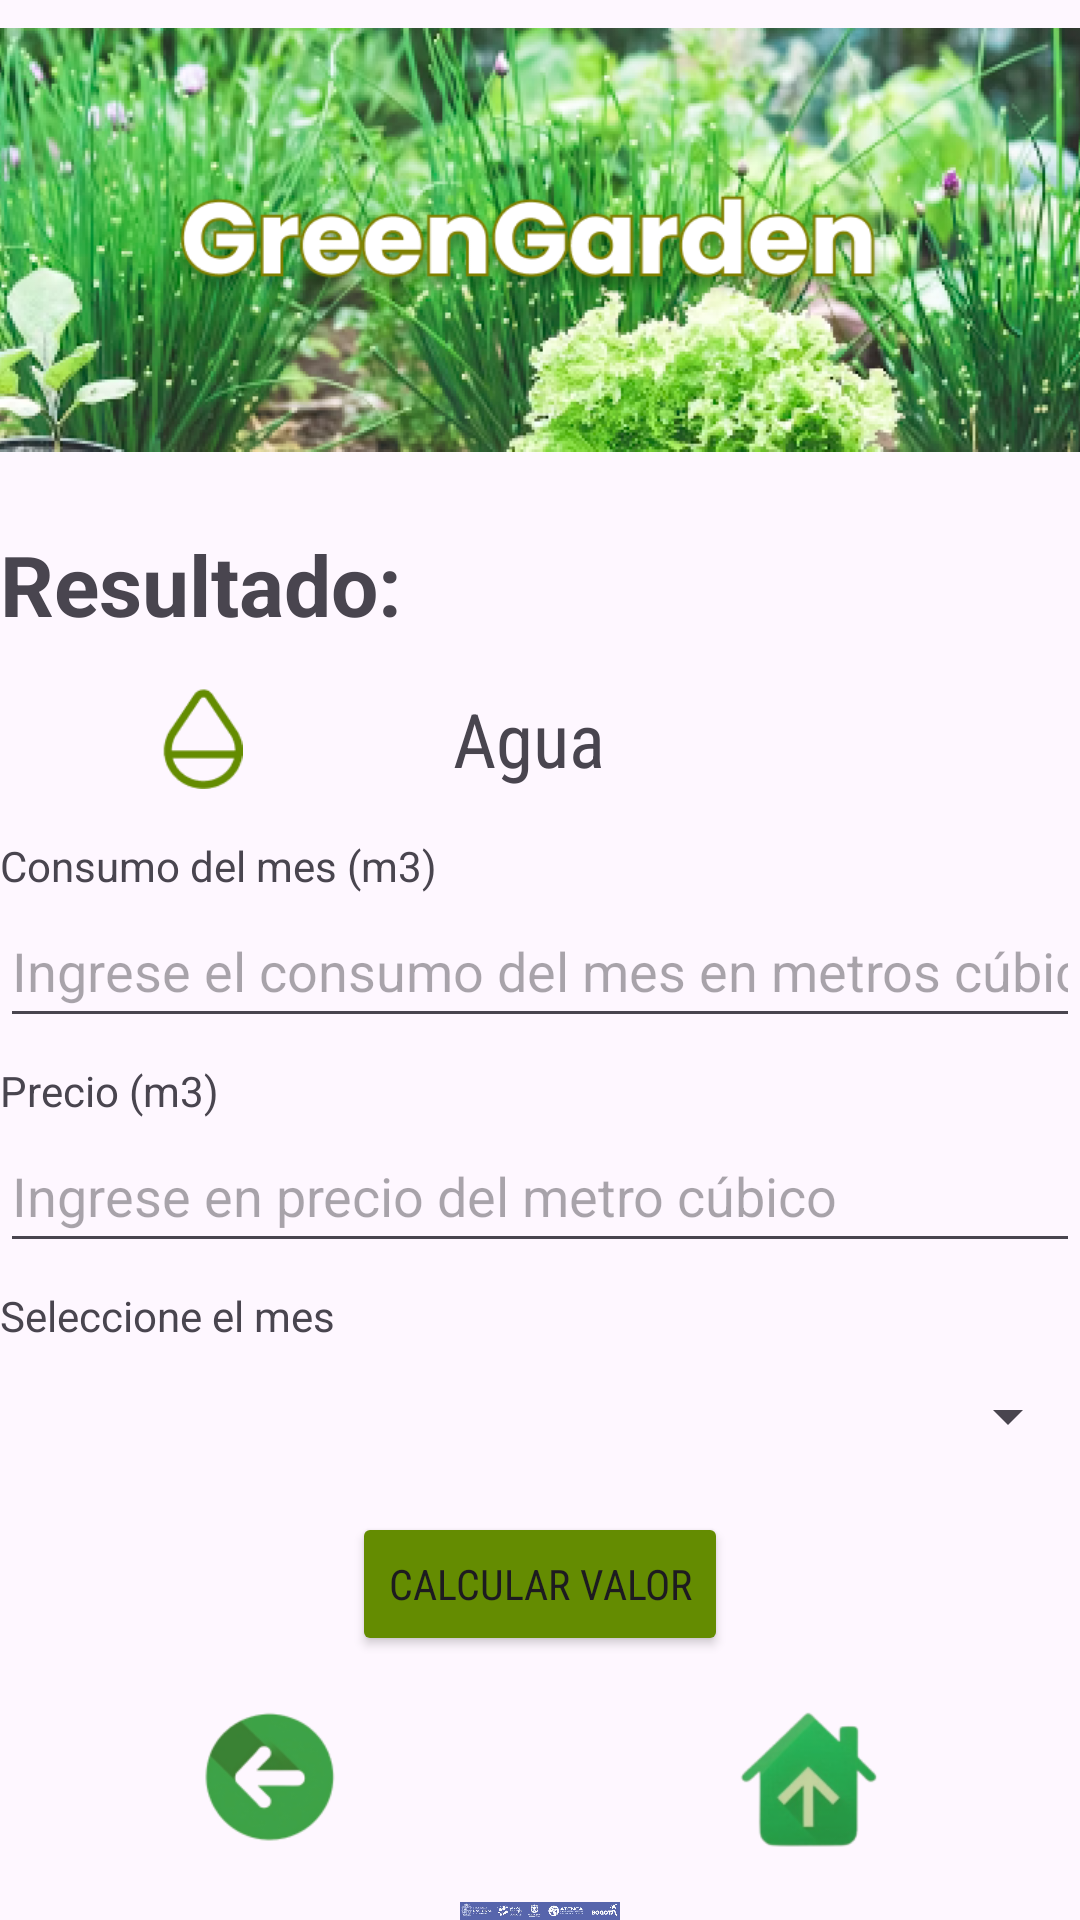

Icon click points for this 1080 x 1920 phone screenshot, format (x=x, y=y):
botonatras: (x=269, y=1777)
botoncasita: (x=809, y=1780)
